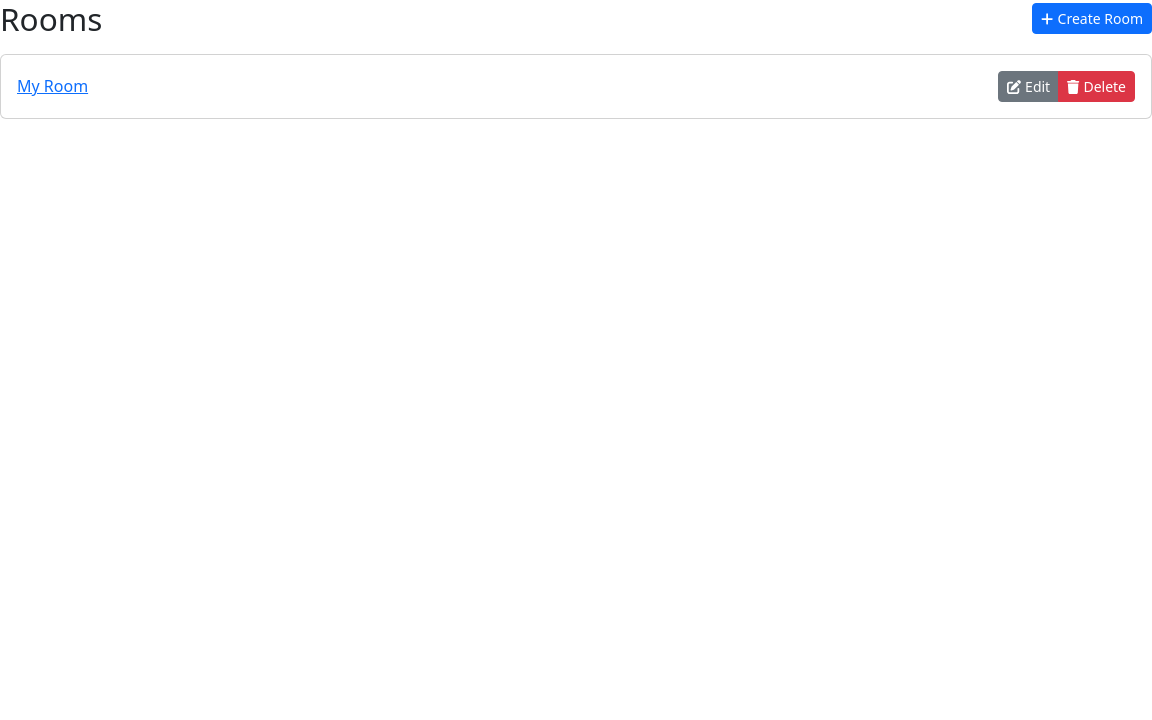
Test: RoomListView › handles room deletion
This screenshot has width=1152, height=720.
expect the link "My Room" is shown: met, box [17,74,88,98]
Click the button "Delete". click: (1097, 86)
box: [1058,71,1135,102]
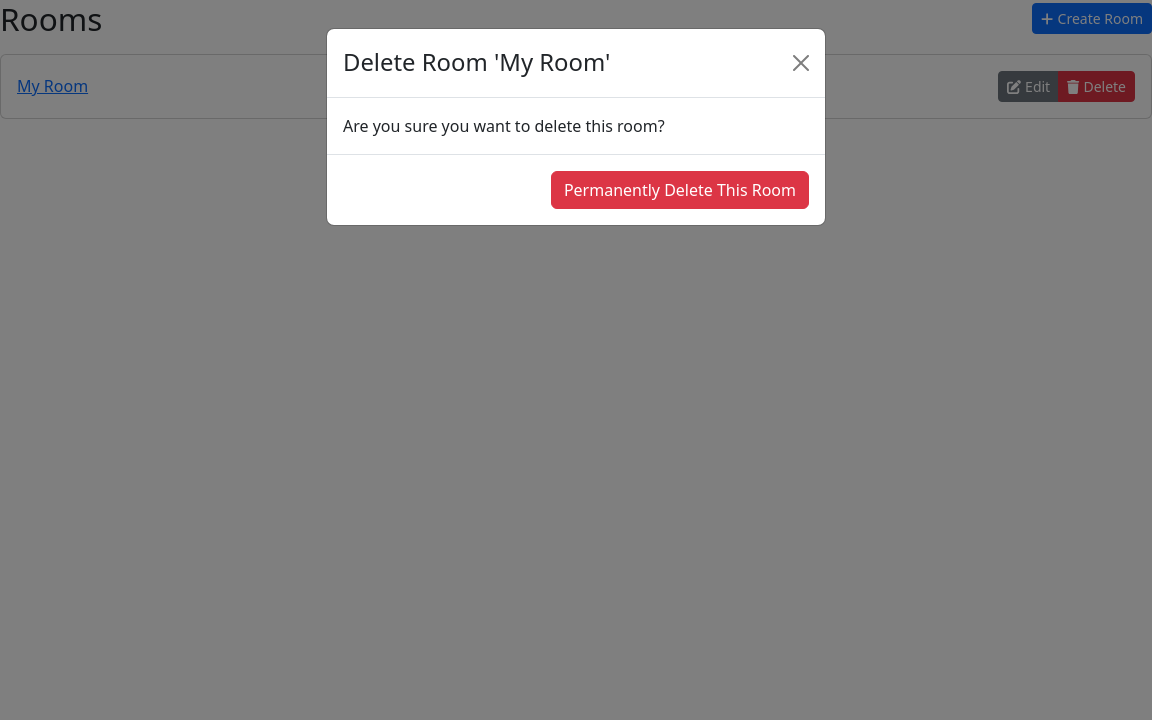
Click the button "Permanently Delete This Room". click: (680, 190)
box: [551,171,809,209]
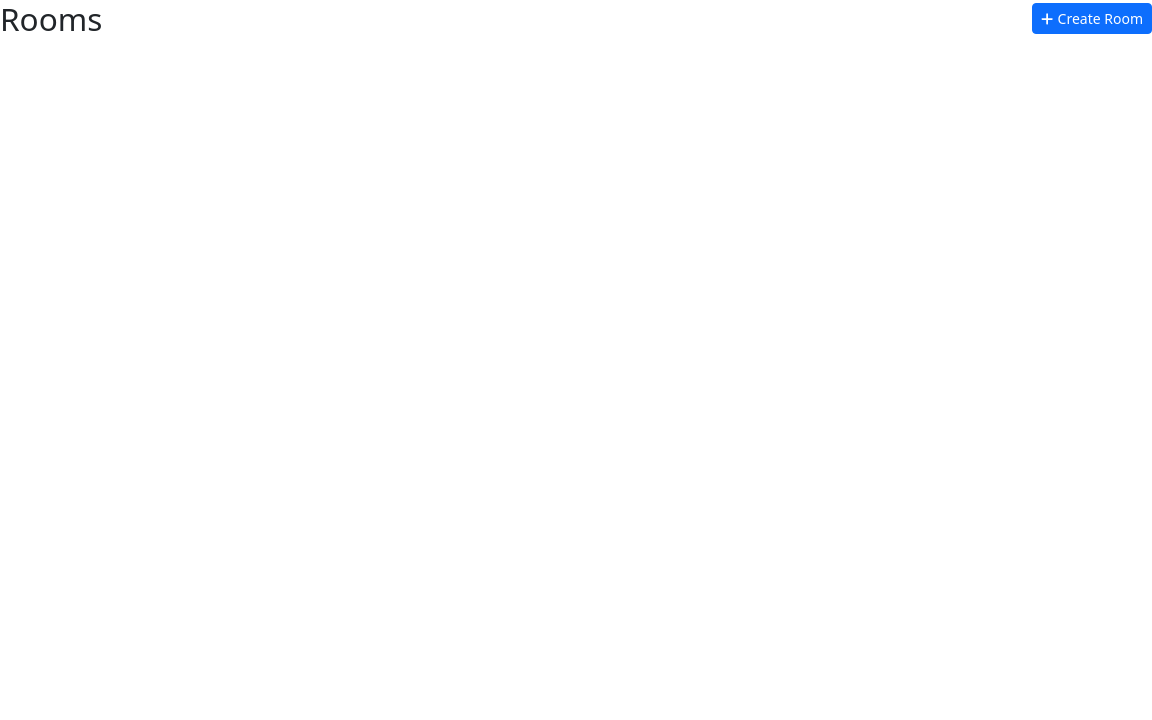
expect the text "Delete Room 'My Room'" is gone: met
expect the link "My Room" is gone: met
